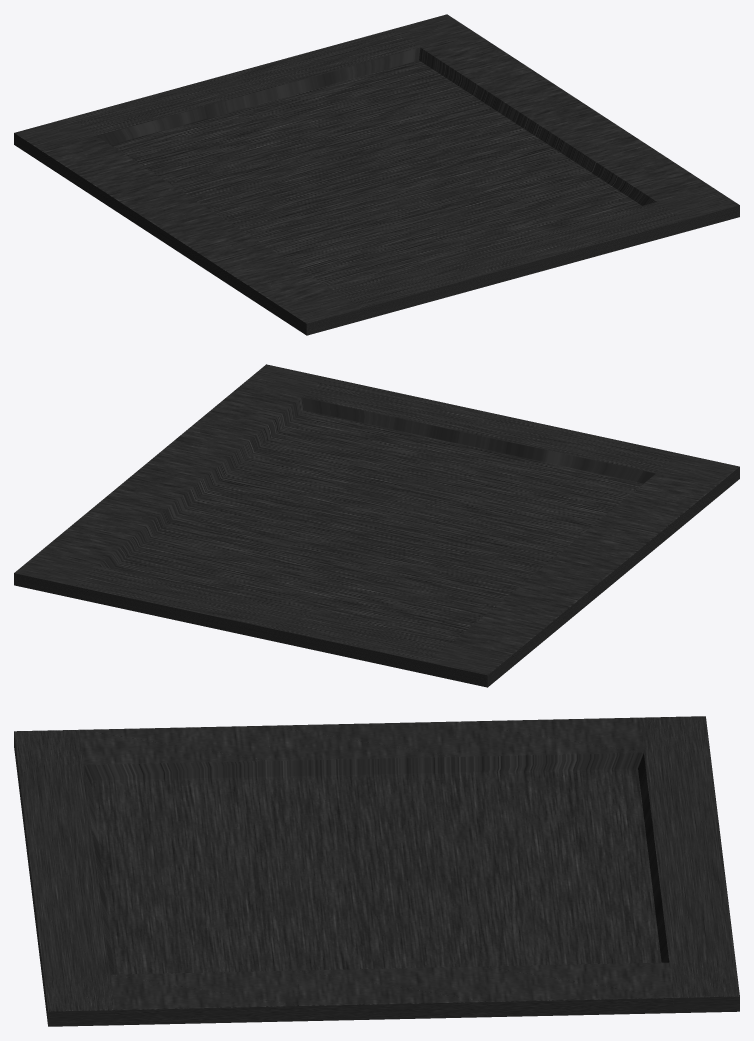
File: tools tray.FBX
The picture shows the model from 3 angles, top to bottom: view 1: azimuth 30°, elevation 25°; view 2: azimuth 150°, elevation 25°; view 3: azimuth 270°, elevation 25°; orthographic projection. The views are drawn at different scales.
Visible parts, largest first — view 1: table tray; view 2: table tray; view 3: table tray.
Boxes of the visible parts, box(x1,y1,x2,y2) form: table tray: box(14, 14, 739, 335); table tray: box(14, 364, 739, 687); table tray: box(14, 716, 739, 1026).
Size of the model in its own units: 2.58 by 0.0621 by 2.68.
1 material, 1 textured.
